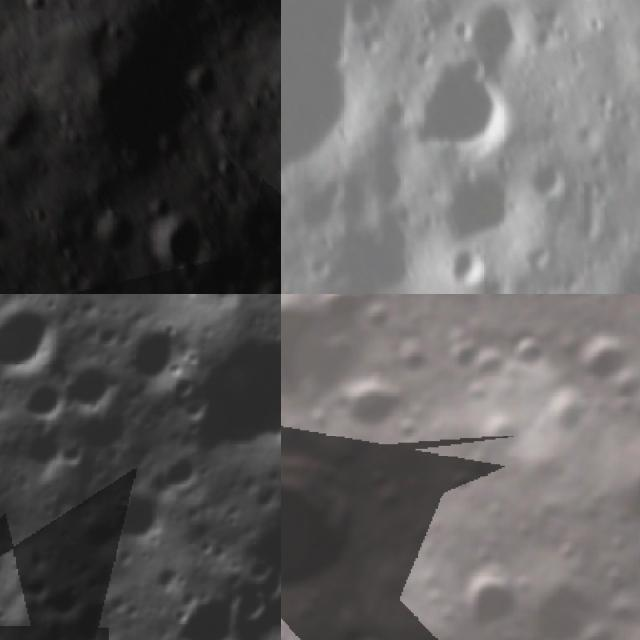crater: (281, 407, 387, 625), (281, 294, 407, 452), (166, 306, 281, 475), (105, 298, 205, 402), (398, 60, 507, 151), (439, 551, 531, 640), (508, 560, 610, 640), (327, 362, 412, 448), (4, 400, 90, 484), (425, 166, 519, 242), (0, 294, 71, 389), (160, 578, 258, 640), (68, 388, 144, 464), (98, 478, 175, 553), (562, 318, 637, 394), (447, 0, 527, 68), (60, 348, 133, 421), (594, 434, 640, 549), (140, 433, 210, 502), (142, 208, 208, 274), (528, 382, 592, 445), (18, 369, 80, 432), (31, 573, 93, 635), (288, 170, 346, 233), (224, 573, 280, 631), (472, 407, 527, 463), (499, 325, 552, 377), (437, 328, 488, 379), (435, 456, 484, 506), (85, 208, 133, 256), (615, 528, 640, 619), (392, 336, 440, 383), (601, 359, 640, 416), (178, 56, 226, 102), (439, 247, 490, 290), (354, 294, 401, 340), (325, 616, 408, 640), (544, 294, 635, 315), (387, 409, 430, 452), (612, 234, 640, 294), (342, 0, 386, 37), (525, 154, 564, 195), (470, 344, 509, 384), (359, 458, 397, 498), (456, 373, 496, 411), (0, 112, 24, 155), (207, 275, 255, 294), (254, 270, 281, 294)
